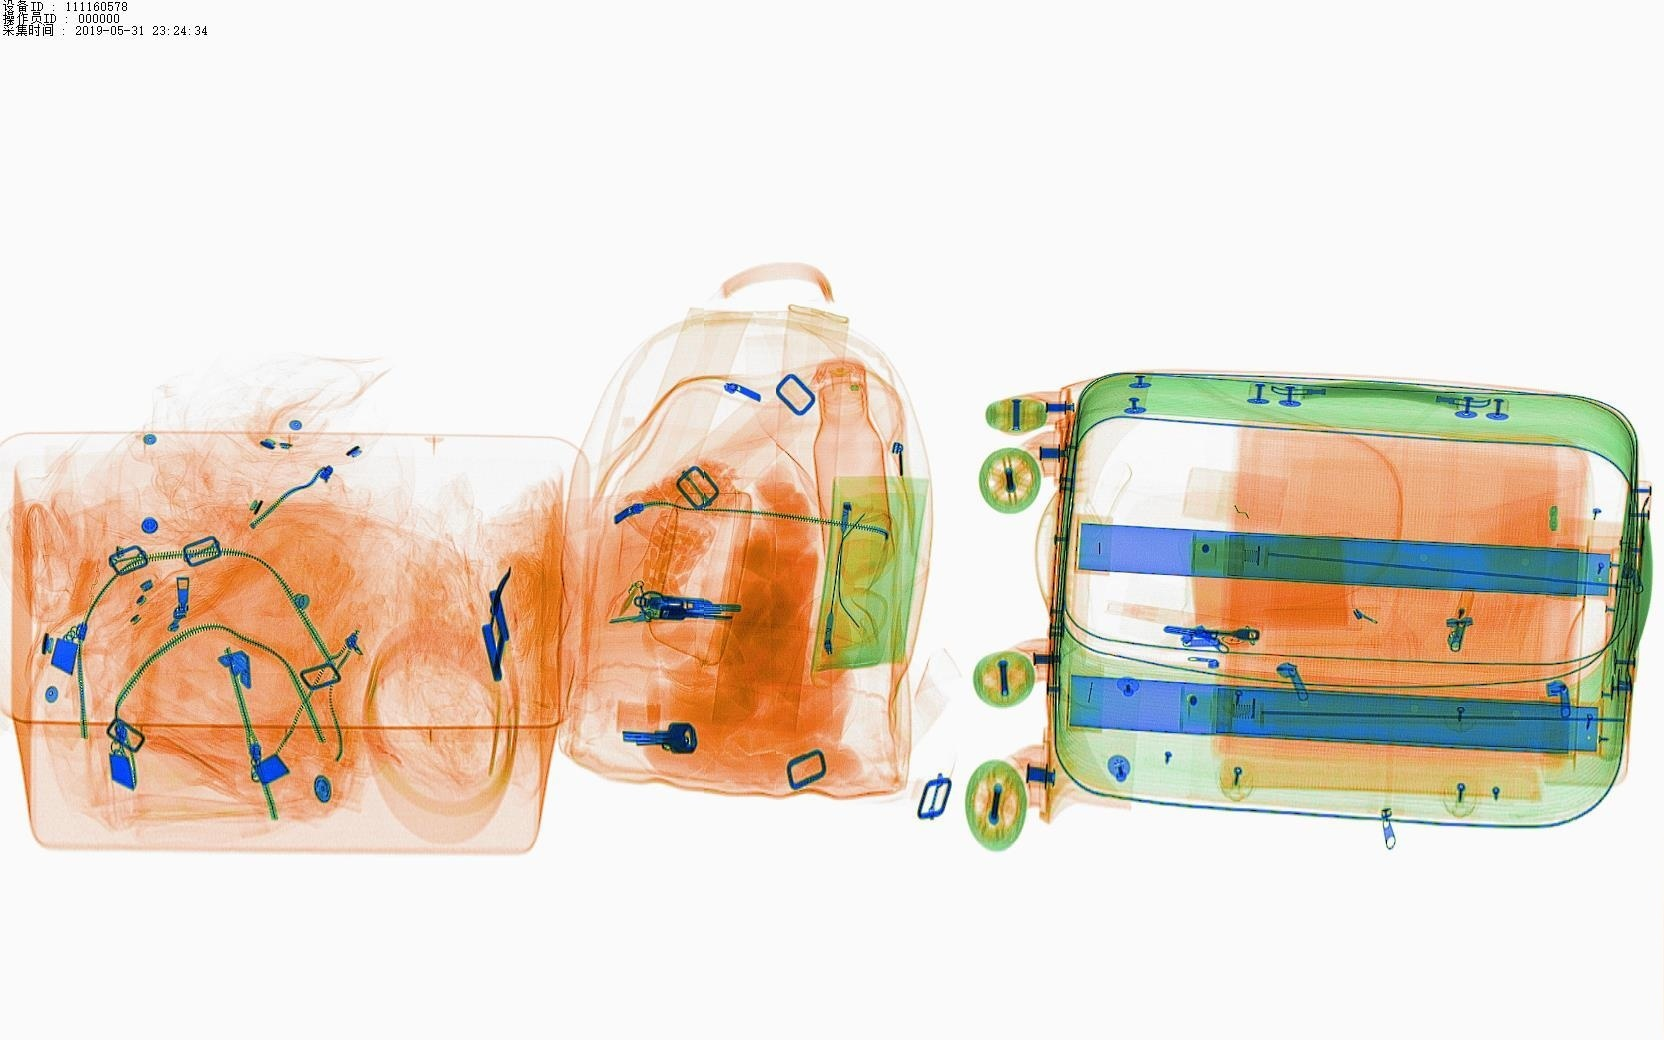NonmetallicFire: (1433, 574, 1495, 661)
